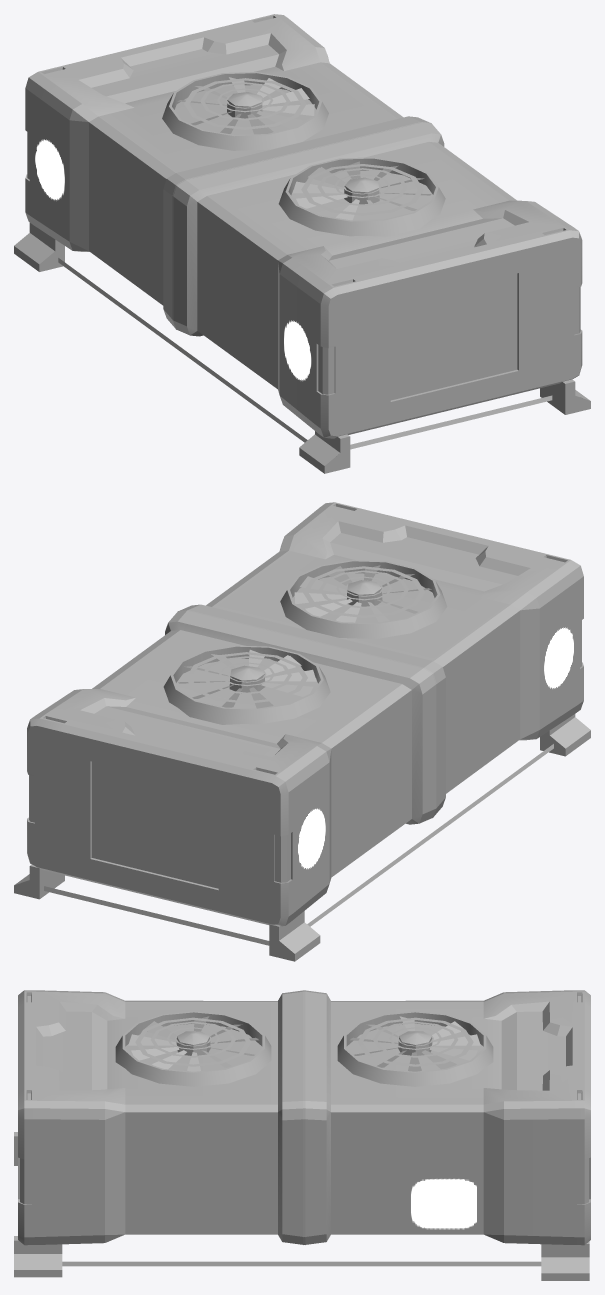
The model's file is KF_Kalonji_SM_HAVC.fbx.
The picture shows the model from 3 angles, top to bottom: view 1: azimuth 30°, elevation 25°; view 2: azimuth 150°, elevation 25°; view 3: azimuth 270°, elevation 25°; orthographic projection. The views are drawn at different scales.
Parts seen in each view (by area): view 1: Box, Cylinder001, Box003, Circle003, elise, Line002, Cylinder002; view 2: Box, Cylinder001, Box003, Circle003, elise, Line002, Cylinder002; view 3: Box, Cylinder001, Box003, Circle003, elise, Line002, Cylinder002.
Boxes of the visible parts, x1,y1,x2,y2 form: Box: (25, 14, 582, 438); Cylinder001: (162, 72, 445, 236); Box003: (14, 223, 590, 473); Circle003: (184, 78, 423, 215); elise: (177, 77, 431, 220); Line002: (58, 258, 552, 449); Cylinder002: (227, 92, 379, 204); Box: (27, 502, 583, 926); Cylinder001: (163, 560, 447, 724); Box003: (14, 714, 590, 961); Circle003: (185, 566, 424, 703); elise: (178, 565, 431, 708); Line002: (44, 744, 553, 945); Cylinder002: (229, 580, 382, 693); Box: (18, 990, 590, 1245); Cylinder001: (115, 1011, 493, 1086); Box003: (14, 1132, 589, 1280); Circle003: (135, 1017, 473, 1066); elise: (128, 1016, 480, 1071); Line002: (62, 1261, 541, 1266); Cylinder002: (176, 1031, 432, 1055).
Size of the model in its own units: 101 by 66.07 by 190.
